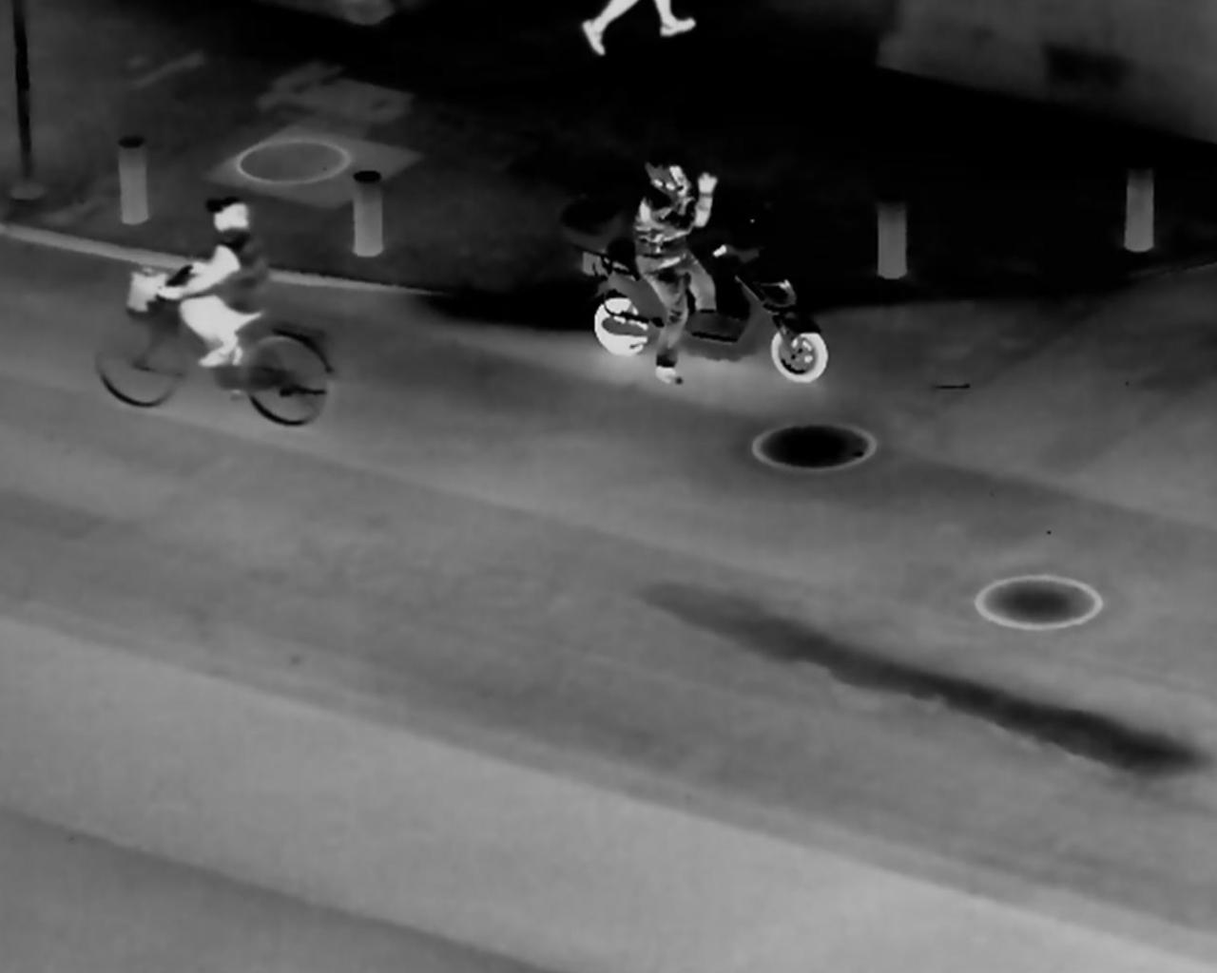person: (163, 174, 275, 397), (635, 141, 722, 398), (578, 3, 706, 61)
